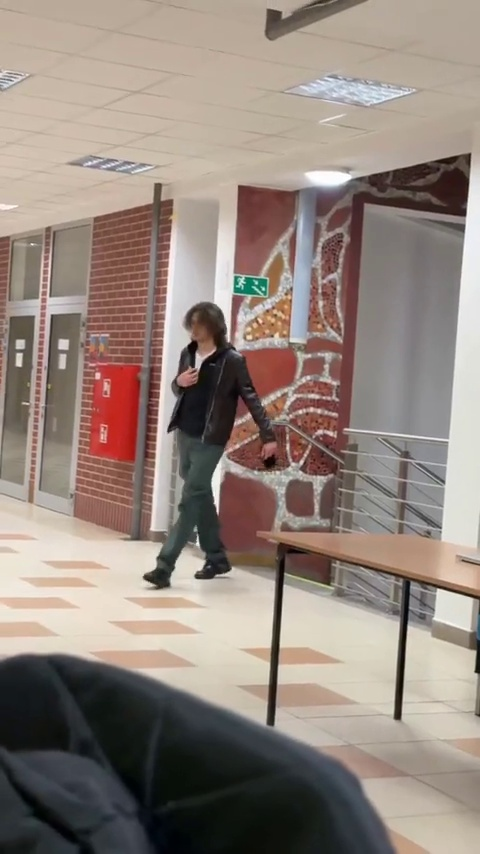no vest: (149, 298, 273, 586)
